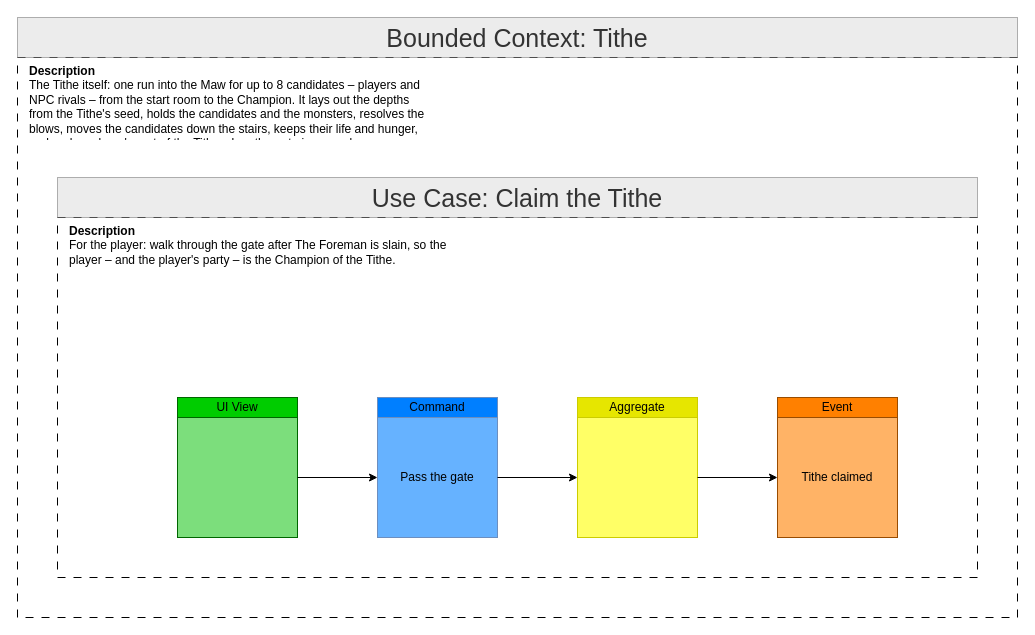
This 1035x635 diagram has some shape labels left out. Here are the shapes that lost their labels. From the top down, the box of each, then its label:
(176, 416, 298, 538): Depth Player
(576, 416, 698, 538): Tithe Gate open Outcome · Kind · Champion
